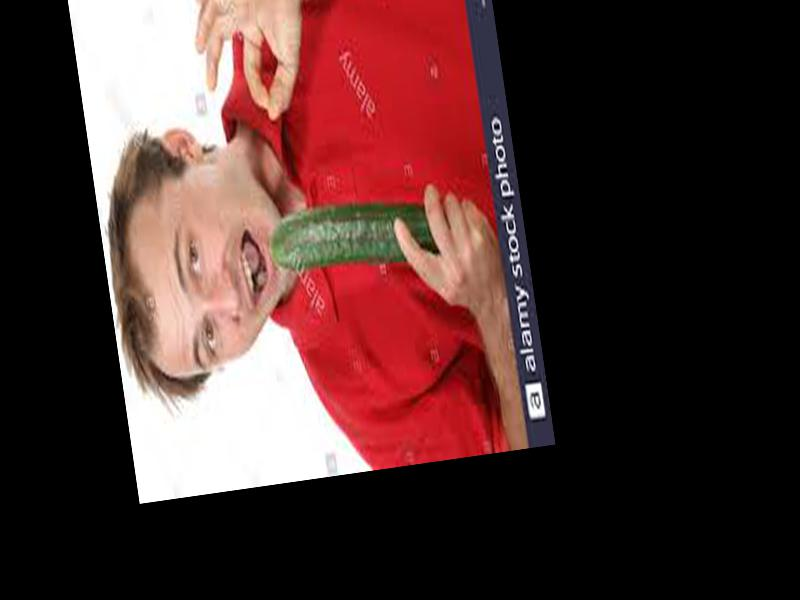Cucumber: (268, 200, 435, 273)
